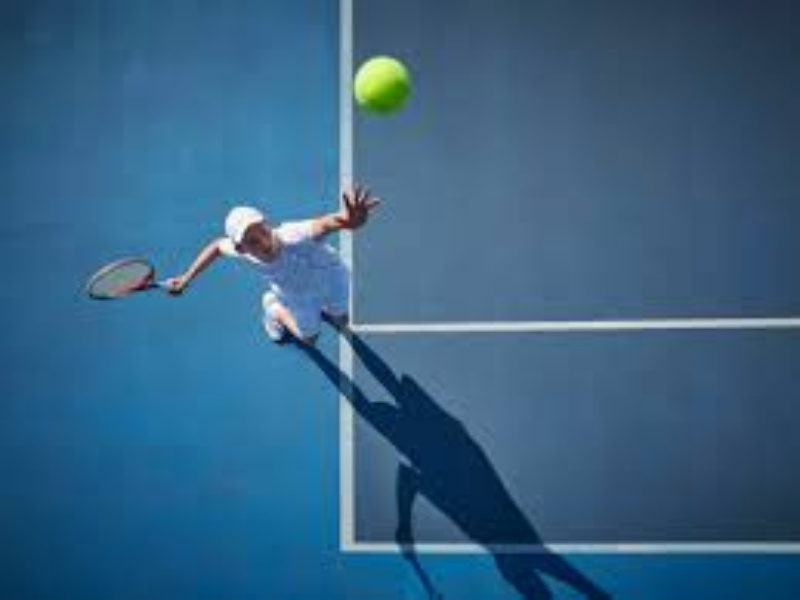tennis ball: (346, 44, 423, 124)
